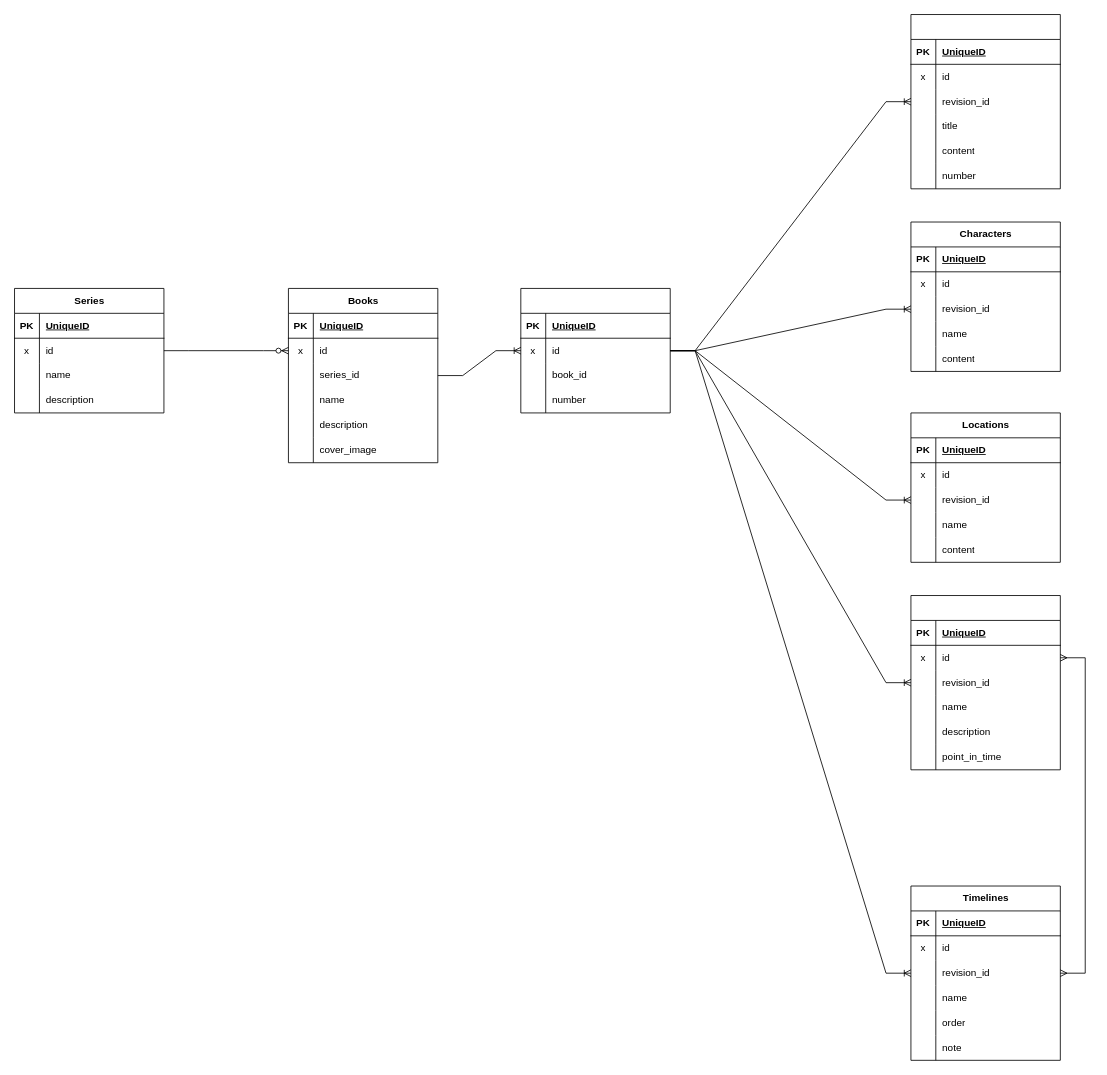
Image size: 1107x1075. Some labels were removed from this diagram. The shapes that lost their labels are listed below. From the top down, each one's box as (x1, y1, x2, y2) in pixels, then its label:
(910, 14, 1060, 189): Chapters
(520, 288, 670, 413): Revisions
(910, 595, 1060, 770): Events
